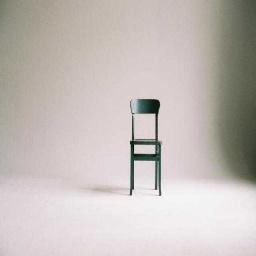Chair: (129, 99, 162, 197)
